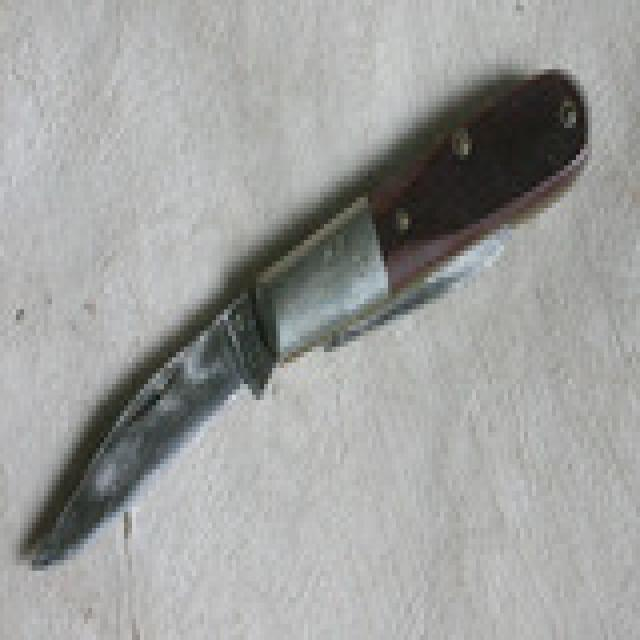Knife: (24, 64, 598, 588)
